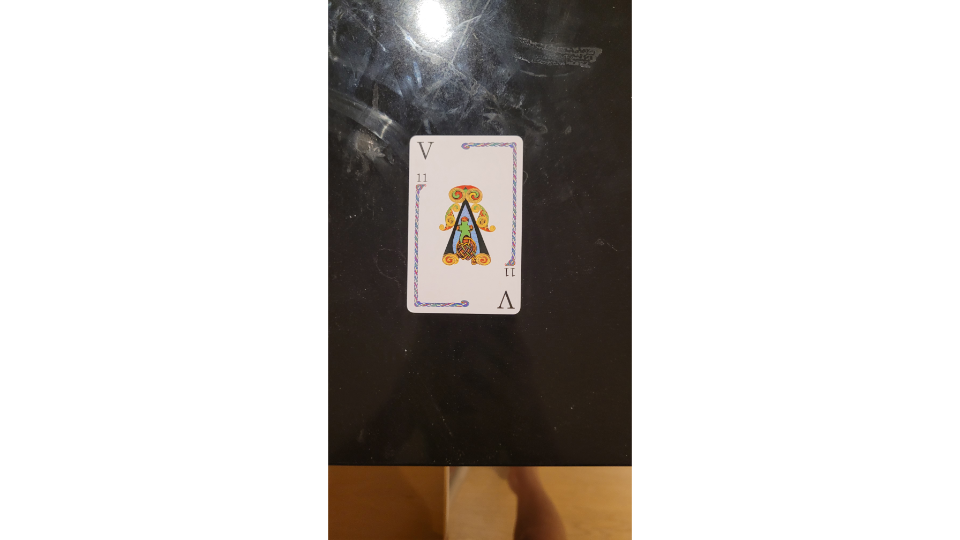V: (404, 130, 527, 317)
